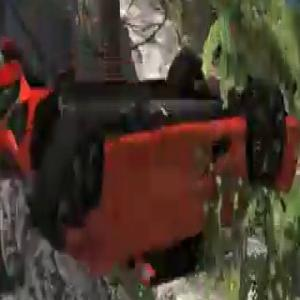critical: (0, 36, 300, 292)
